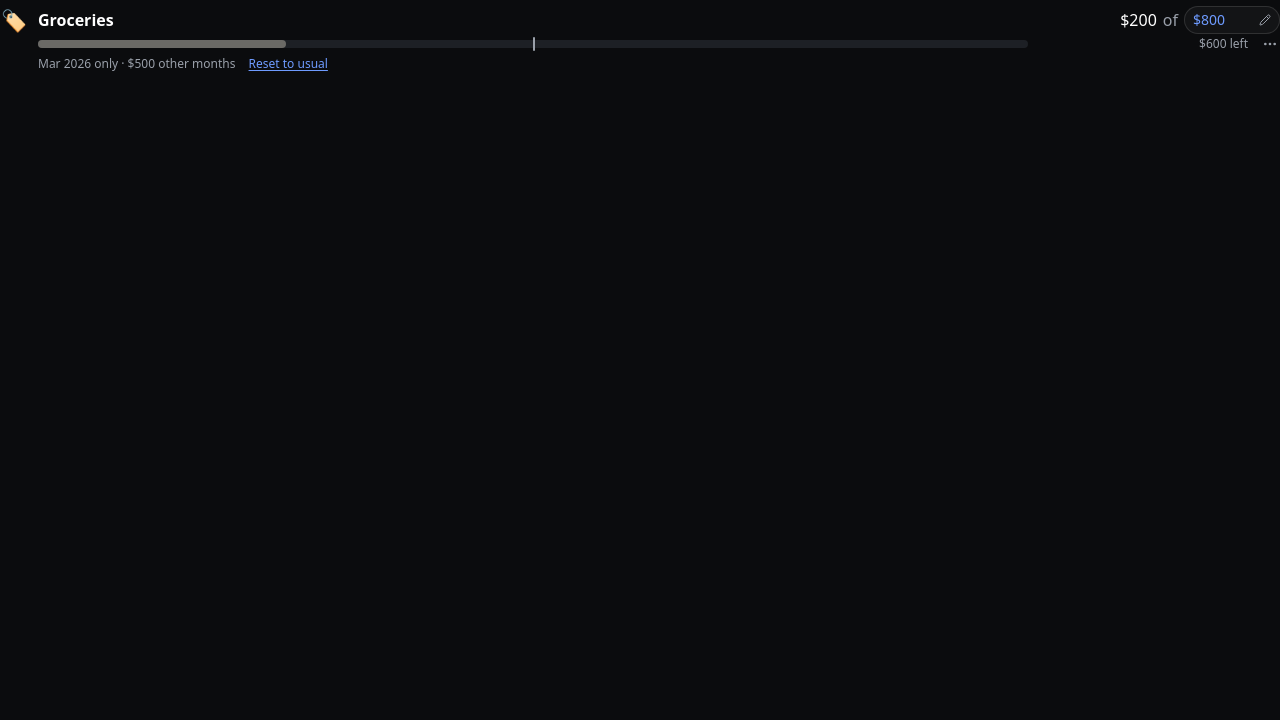
Test: BudgetRow › the budget editor › starts on this month when it has its own amount, and names the month
What coordinates should you click on to do the following:
click the button named "Edit Groceries budget"
I would click on:
 (1232, 20)
Its box is [1184,6,1279,34].
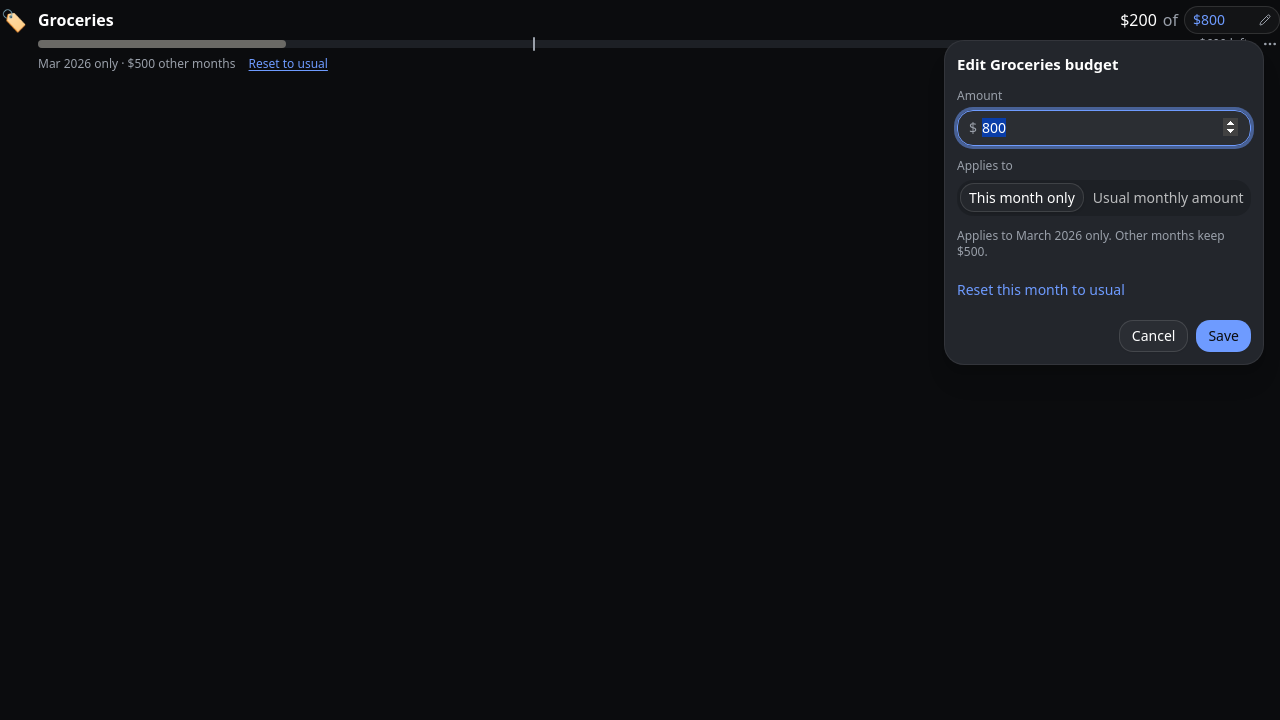
Now the number field labelled "Amount" holds "800", box [957,110,1251,146]
Now the text "Applies to March 2026 only. Other months keep $500." is shown, box [957,228,1251,260]
